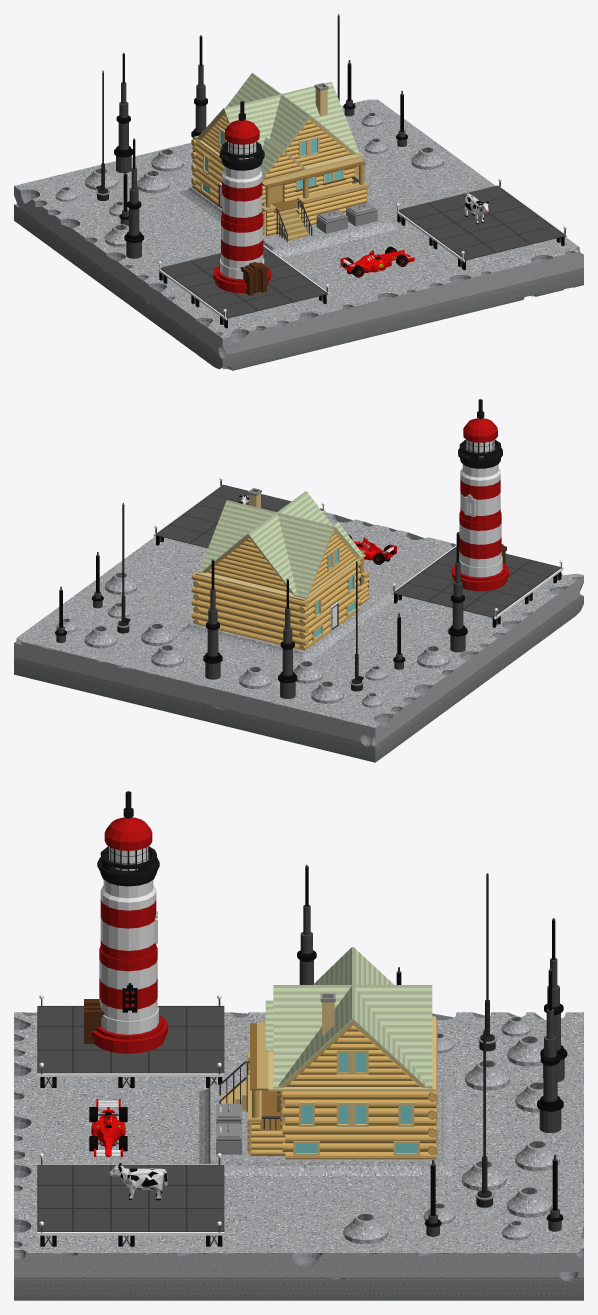
The picture shows the model from 3 angles, top to bottom: view 1: azimuth 30°, elevation 25°; view 2: azimuth 150°, elevation 25°; view 3: azimuth 270°, elevation 25°; orthographic projection. The views are drawn at different scales.
Parts seen in each view (by area): view 1: Cube.027, Cube.1516, OBJRANDOM_LIGHTHOUSE, Cube.026, Cube.025, Cube.028, VEHICLES_FORMULA_1, Cylinder.021, Cylinder.020, Cylinder.017, Cube.029, Cube.030 (+5 smaller); view 2: Cube.027, Cube.1516, OBJRANDOM_LIGHTHOUSE, Cube.025, Cube.026, Cube.028, Cylinder.021, Cylinder.017, Cylinder.020, VEHICLES_FORMULA_1, Cylinder.031, Cylinder.024 (+7 smaller); view 3: Cube.027, Cube.1516, OBJRANDOM_LIGHTHOUSE, Cube.026, Cube.025, Cube.028, Cylinder.017, VEHICLES_FORMULA_1, Cylinder.020, ANIMAL_VACA, Cylinder.021, Cylinder.031 (+8 smaller).
Part boxes in pixels (box(x1,y1,x2,y2)): Cube.027: box(14, 99, 583, 370); Cube.1516: box(191, 73, 369, 241); OBJRANDOM_LIGHTHOUSE: box(213, 101, 270, 295); Cube.026: box(395, 178, 567, 270); Cube.025: box(157, 237, 329, 328); Cube.028: box(180, 186, 399, 257); VEHICLES_FORMULA_1: box(340, 246, 414, 277); Cylinder.021: box(124, 138, 143, 258); Cylinder.020: box(114, 52, 132, 173); Cylinder.017: box(191, 35, 207, 151); Cube.029: box(316, 209, 347, 233); Cube.030: box(346, 202, 377, 226); Cube.027: box(14, 512, 583, 762); Cube.1516: box(191, 488, 369, 650); OBJRANDOM_LIGHTHOUSE: box(451, 399, 509, 591); Cube.025: box(391, 545, 563, 627); Cube.026: box(153, 477, 325, 547); Cube.028: box(179, 585, 393, 662); Cylinder.021: box(448, 532, 467, 652); Cylinder.017: box(203, 559, 222, 679); Cylinder.020: box(278, 578, 297, 698); VEHICLES_FORMULA_1: box(348, 534, 396, 564); Cylinder.031: box(84, 625, 117, 648); Cylinder.024: box(116, 503, 130, 633); Cube.027: box(14, 1012, 583, 1300); Cube.1516: box(219, 947, 437, 1159); OBJRANDOM_LIGHTHOUSE: box(84, 791, 167, 1053); Cube.026: box(37, 1153, 224, 1246); Cube.025: box(37, 994, 224, 1087); Cube.028: box(199, 1084, 452, 1175); Cylinder.017: box(537, 968, 563, 1132); VEHICLES_FORMULA_1: box(89, 1099, 127, 1156); Cylinder.020: box(540, 918, 567, 1081); ANIMAL_VACA: box(109, 1163, 167, 1200); Cylinder.021: box(297, 864, 316, 984); Cylinder.031: box(507, 1186, 551, 1217).
Bounding box in the file's own units: 4000 × 2482 × 4000.
42 materials, 5 textured.
